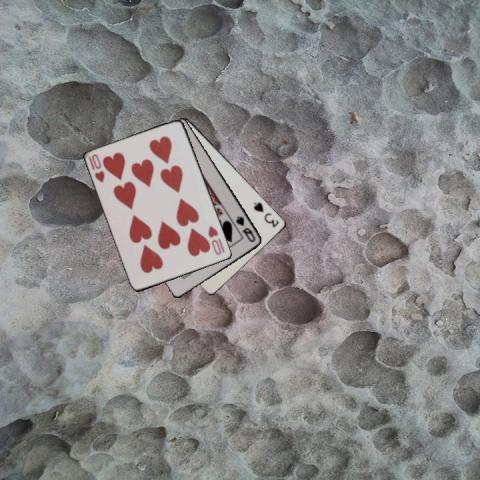10h: (205, 222, 227, 256), (85, 151, 106, 184)
3s: (251, 198, 281, 228)
Qs: (233, 213, 257, 244)
